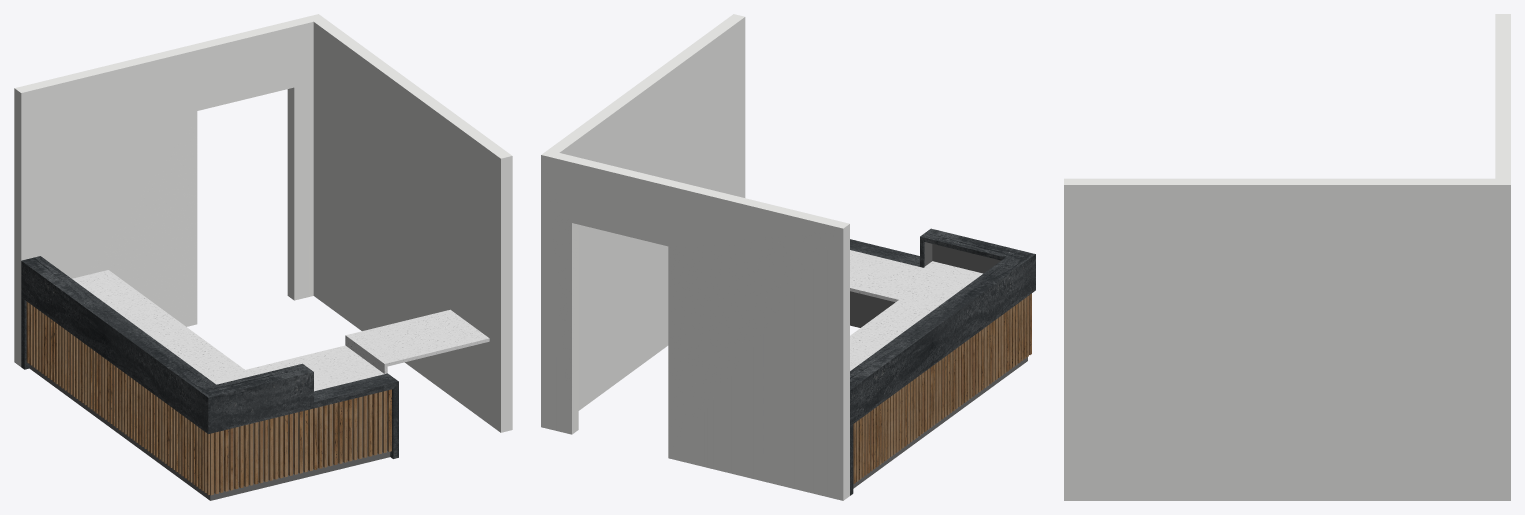
Rendered from rc_coles.glb.
3 views of the same model, side by side, from view 1: azimuth 30°, elevation 25°; view 2: azimuth 150°, elevation 25°; view 3: azimuth 270°, elevation 25° (orthographic). The views are drawn at different scales.
Visible parts, largest first — view 1: Walls, TimberBattens, BT_Stone, BT_Low, BT_Open, Front; view 2: Walls, BT_Stone, TimberBattens, BT_Low, Front; view 3: Walls.
Part boxes in pixels (x1,y1,x2,y2): Walls: (14, 14, 512, 432); TimberBattens: (26, 301, 391, 495); BT_Stone: (21, 256, 398, 458); BT_Low: (72, 270, 387, 391); BT_Open: (345, 309, 489, 366); Front: (29, 365, 390, 500); Walls: (541, 14, 849, 500); BT_Stone: (850, 228, 1035, 495); TimberBattens: (853, 293, 1031, 483); BT_Low: (850, 250, 982, 370); Front: (850, 242, 1027, 488); Walls: (1064, 14, 1510, 500).
Size of the model in its own units: 3.13 by 2.7 by 3.46.
Materials: 6 (4 with a texture image).
